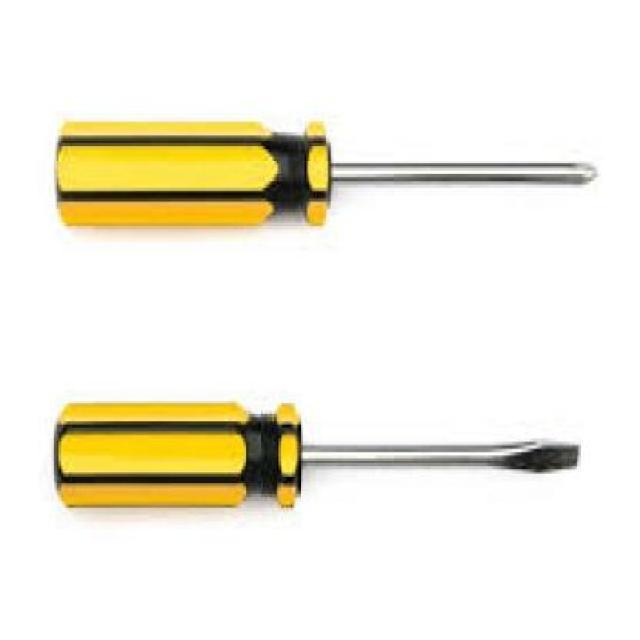screwdriver: (56, 396, 582, 518), (54, 111, 600, 222)
